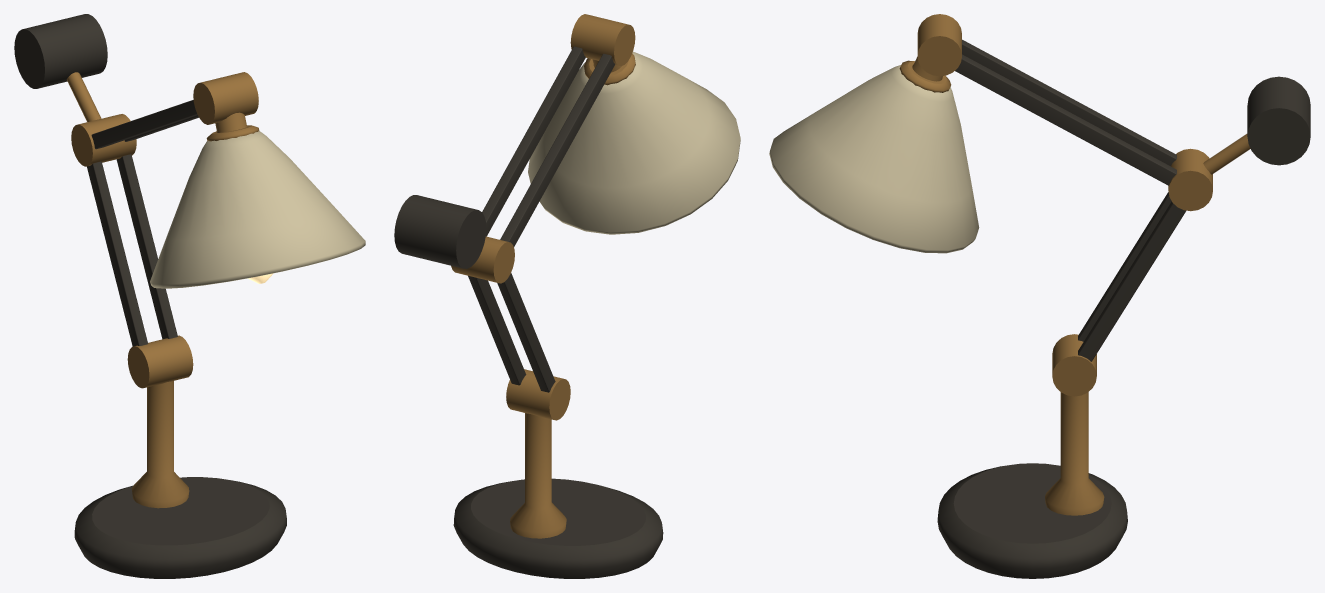
The model's file is rpg-mansion-counterbalanced-task-lamp-01.glb.
3 renders of one model, left to right at view 1: azimuth 30°, elevation 25°; view 2: azimuth 150°, elevation 25°; view 3: azimuth 270°, elevation 25°, orthographic. The views are drawn at different scales.
Visible parts, largest first — view 1: rpg-mansion-counterbalanced-task-lamp-01; view 2: rpg-mansion-counterbalanced-task-lamp-01; view 3: rpg-mansion-counterbalanced-task-lamp-01.
Part boxes in pixels (x1,y1,x2,y2): rpg-mansion-counterbalanced-task-lamp-01: [14, 14, 365, 578]; rpg-mansion-counterbalanced-task-lamp-01: [394, 14, 740, 578]; rpg-mansion-counterbalanced-task-lamp-01: [769, 14, 1310, 578].
Size of the model in its own units: 0.245 by 0.604 by 0.5824.
